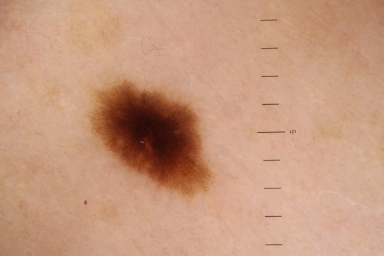melanoma: (94, 81, 214, 200)
